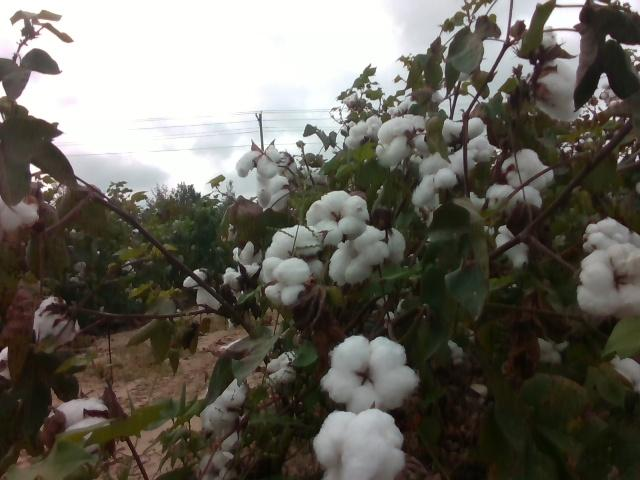cotton_ready: (322, 335, 419, 415), (315, 410, 403, 480), (43, 398, 109, 465), (580, 242, 640, 311), (329, 228, 390, 283), (306, 188, 370, 240), (267, 223, 326, 273), (538, 56, 581, 123), (200, 375, 249, 433), (33, 295, 81, 351), (411, 152, 457, 206), (261, 256, 310, 304), (582, 215, 640, 254), (502, 145, 554, 187), (483, 182, 543, 218), (376, 116, 413, 168), (235, 140, 283, 179), (450, 135, 495, 172), (255, 167, 292, 211), (442, 117, 485, 150), (345, 115, 381, 148)
